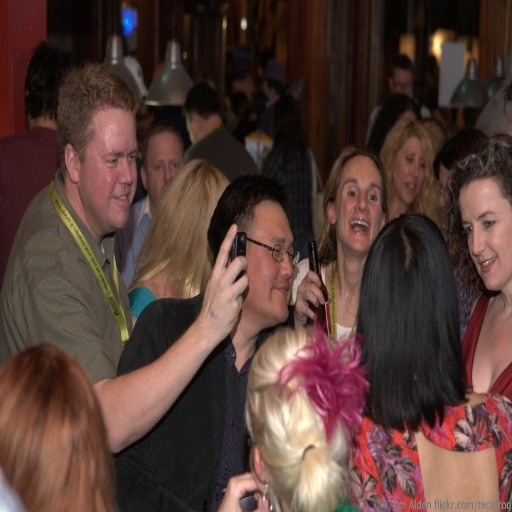hand: (188, 222, 249, 368), (214, 470, 269, 509), (295, 270, 324, 334)
